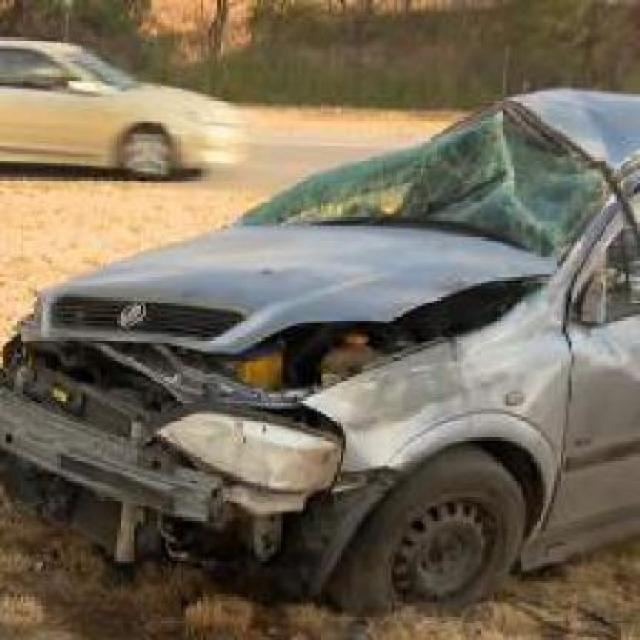damaged-front-bumper: (6, 414, 346, 586)
damaged-hood: (41, 218, 526, 379)
